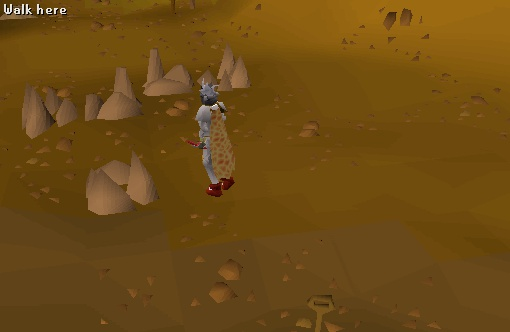copper: (70, 143, 170, 224), (77, 65, 147, 130), (195, 40, 262, 107)
